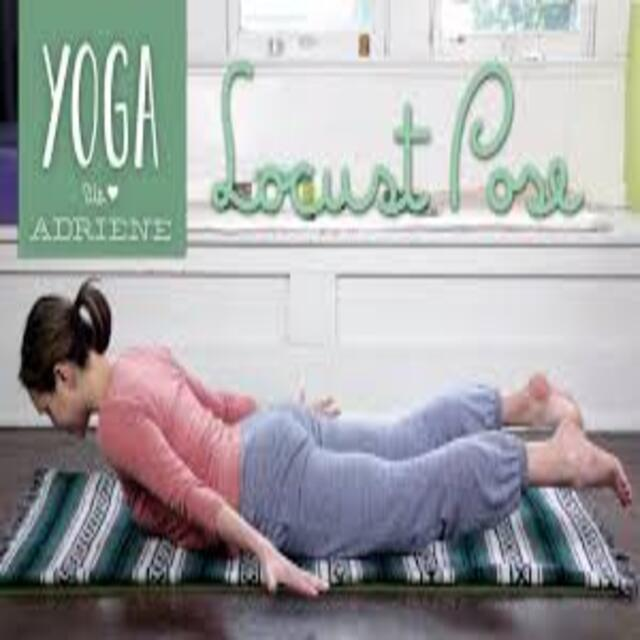Locust_Pose: (12, 277, 634, 597)
